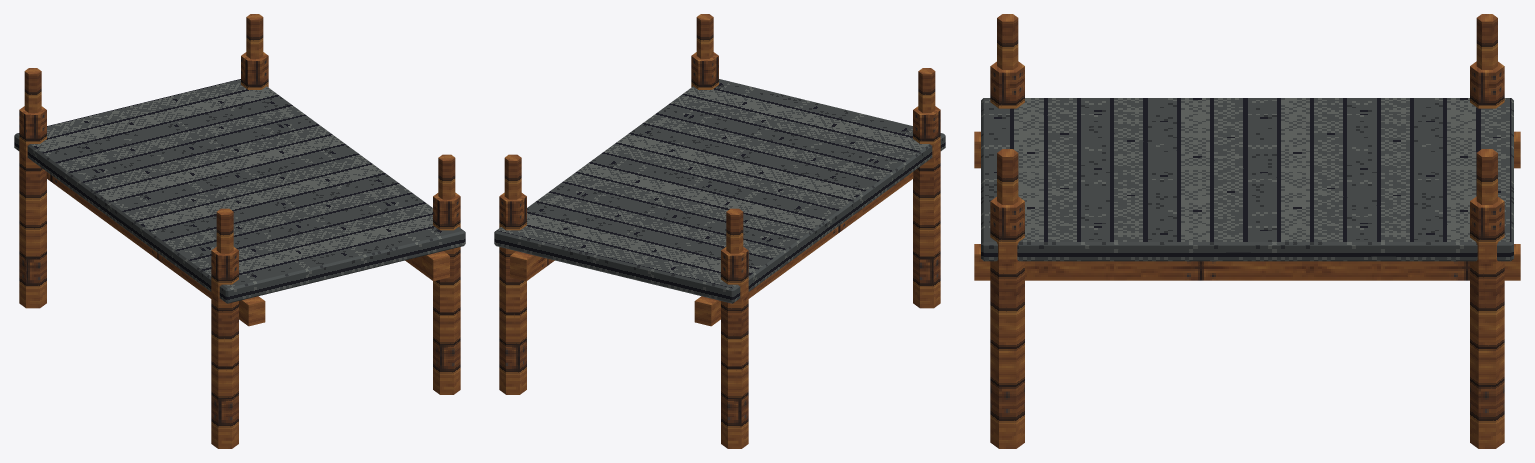
Rendered from rage_walk.glb.
The picture shows the model from 3 angles, left to right: view 1: azimuth 30°, elevation 25°; view 2: azimuth 150°, elevation 25°; view 3: azimuth 270°, elevation 25°; orthographic projection. The views are drawn at different scales.
Visible parts, largest first — view 1: Walk; view 2: Walk; view 3: Walk.
Part boxes in pixels (<box>): Walk: <box>14,14,465,448</box>; Walk: <box>494,14,945,448</box>; Walk: <box>974,14,1520,448</box>.
Size of the model in its own units: 2.63 by 2.4 by 4.1.
Materials: 2 (2 with a texture image).
